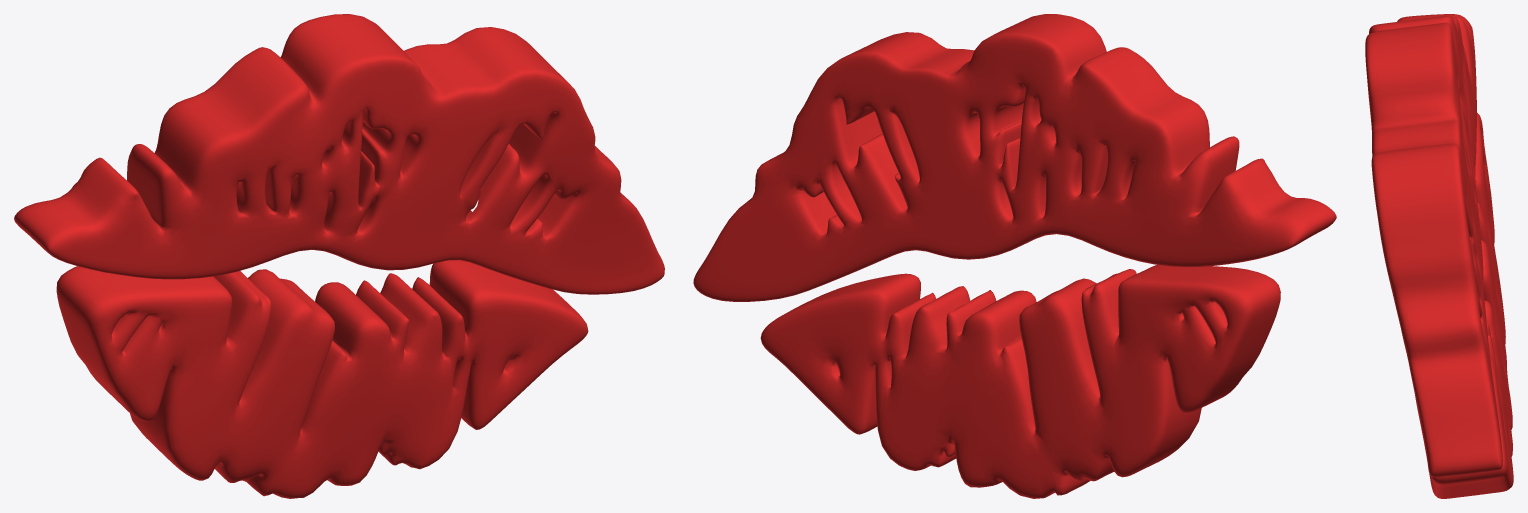
File: kiss FBX.glb
3 views of the same model, side by side, from view 1: azimuth 30°, elevation 25°; view 2: azimuth 150°, elevation 25°; view 3: azimuth 270°, elevation 25° (orthographic). The views are drawn at different scales.
Visible parts, largest first — view 1: ZBrush_defualt_group, Group26861; view 2: ZBrush_defualt_group, Group26861; view 3: ZBrush_defualt_group, Group26861.
Part boxes in pixels (<box>): ZBrush_defualt_group: <box>14,14,664,294</box>; Group26861: <box>56,260,588,498</box>; ZBrush_defualt_group: <box>693,14,1336,301</box>; Group26861: <box>760,265,1280,498</box>; ZBrush_defualt_group: <box>1365,14,1502,477</box>; Group26861: <box>1415,112,1513,498</box>.
Bounding box in the file's own units: 0.5539 × 0.3923 × 0.1245.
